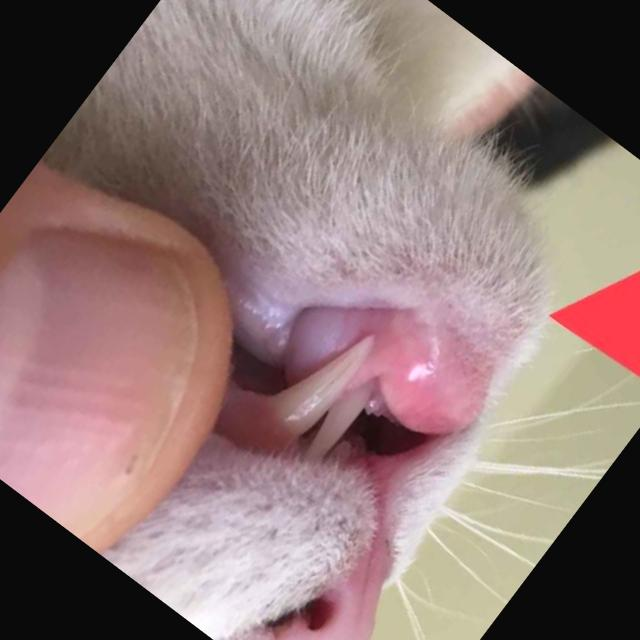cat-lump-and-bump: (286, 260, 537, 509)
